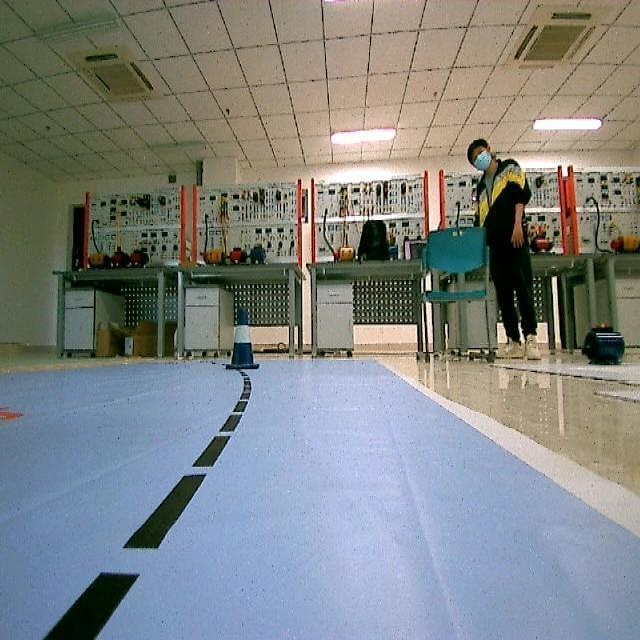obstacle: (215, 298, 265, 379)
